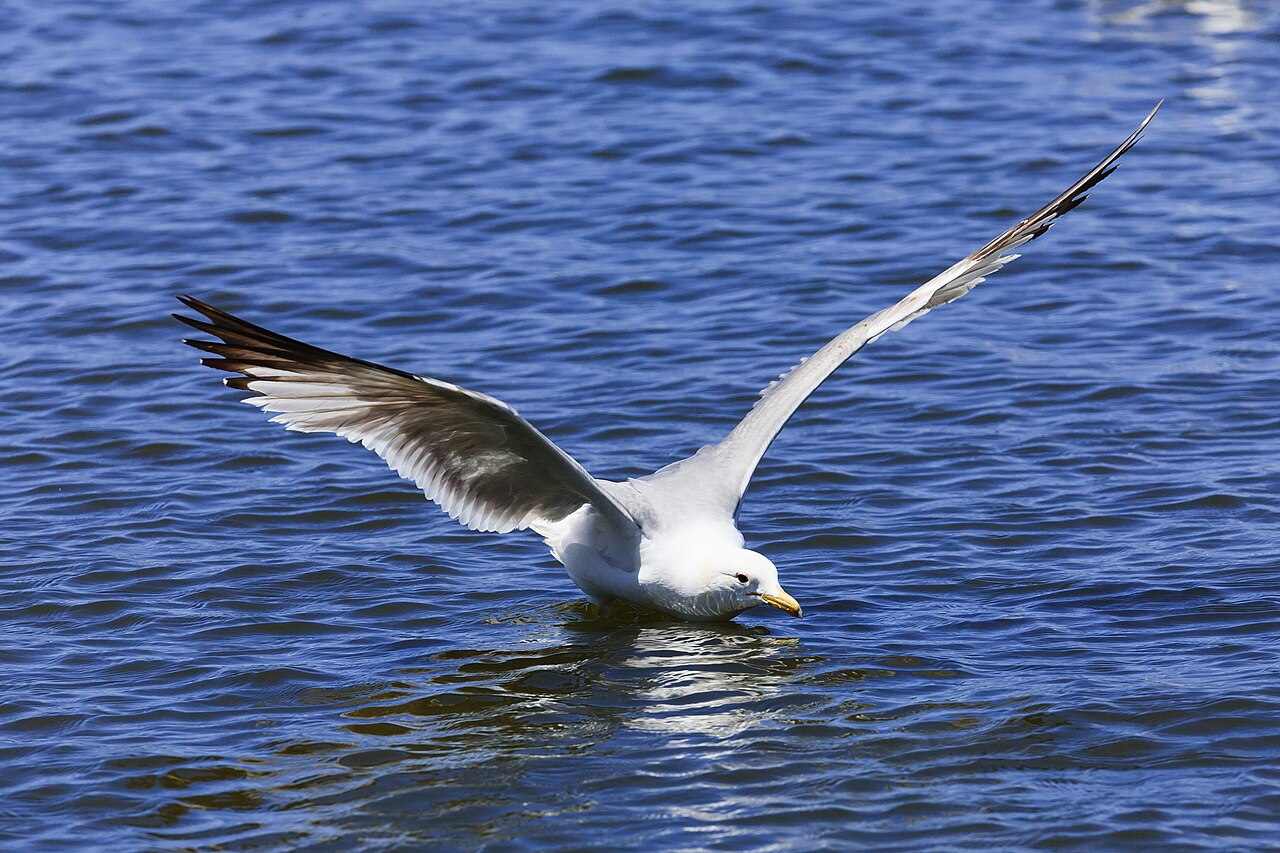bird: (170, 96, 1188, 612)
